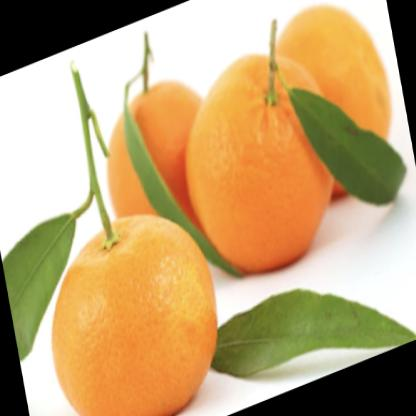fresh: (40, 7, 391, 415)
